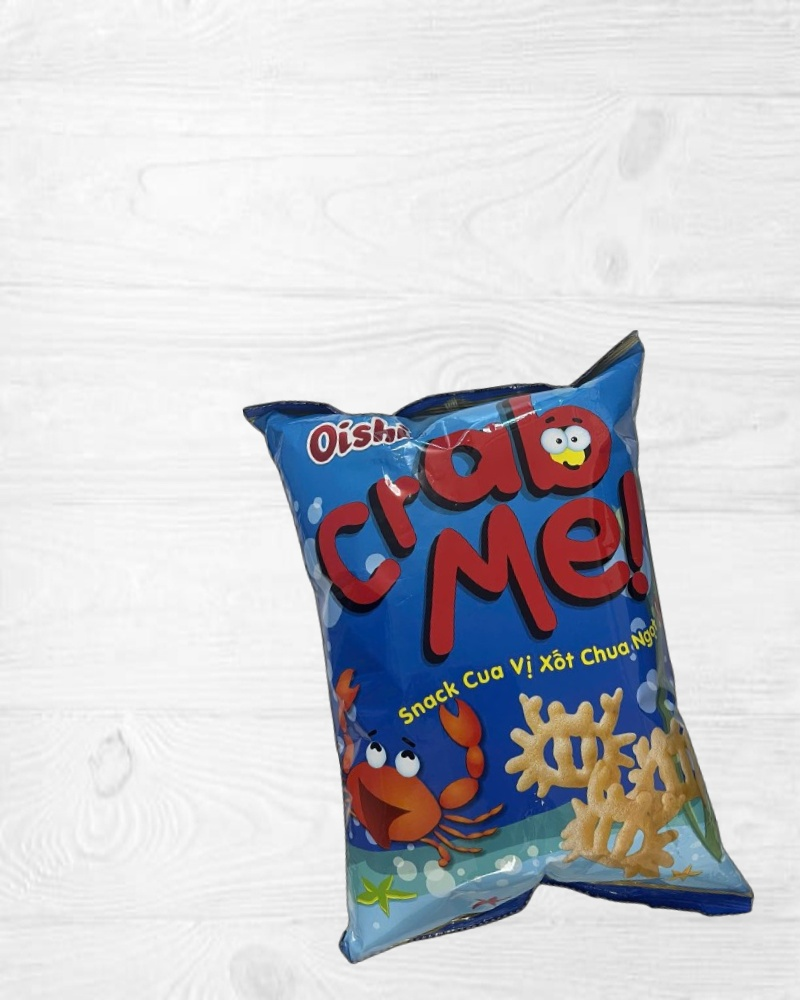Snack chay: (242, 328, 757, 986)
